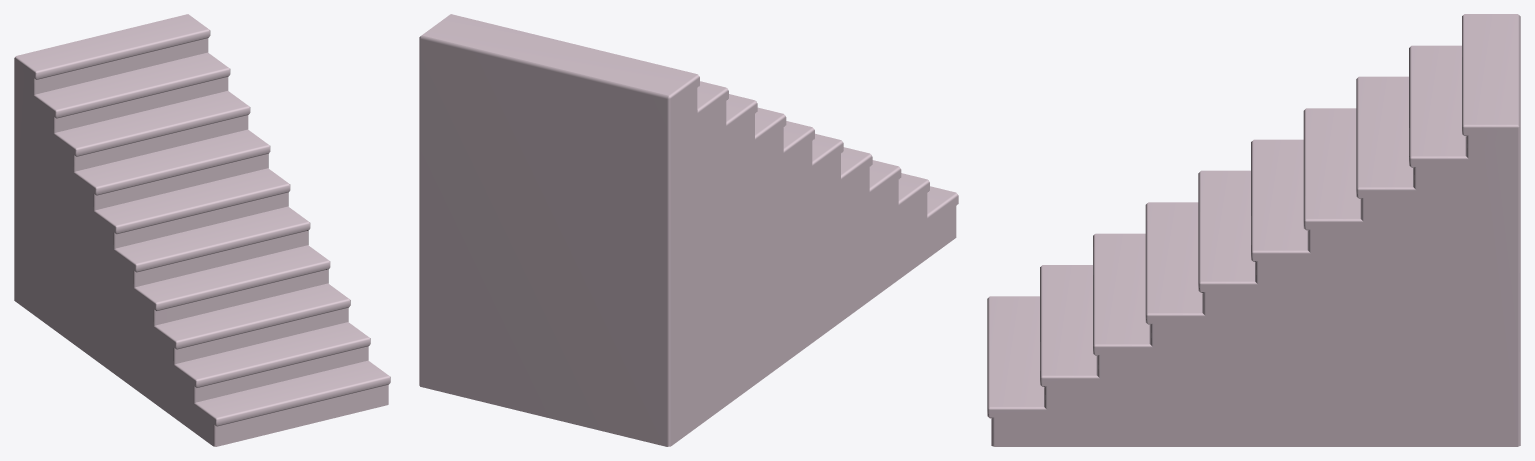
File: mod_sc_roma_001_stairs_003.fbx
The picture shows the model from 3 angles, left to right: view 1: azimuth 30°, elevation 25°; view 2: azimuth 150°, elevation 25°; view 3: azimuth 270°, elevation 25°; orthographic projection. The views are drawn at different scales.
Visible parts, largest first — view 1: mod_sc_roma_001_stairs_003; view 2: mod_sc_roma_001_stairs_003; view 3: mod_sc_roma_001_stairs_003.
Part boxes in pixels (left/top/right/bottom): mod_sc_roma_001_stairs_003: left=14, top=14, right=390, bottom=446; mod_sc_roma_001_stairs_003: left=419, top=14, right=958, bottom=446; mod_sc_roma_001_stairs_003: left=987, top=14, right=1520, bottom=446.
Size of what is drawn, in the model's own units: 300 by 399 by 600.
